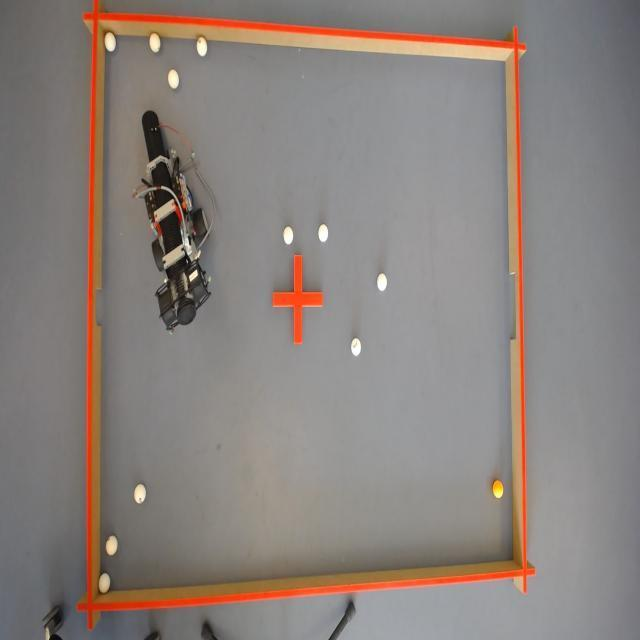orange: (493, 479, 506, 498)
robot: (134, 120, 214, 329)
white: (96, 571, 110, 593), (133, 484, 146, 506), (195, 36, 207, 58), (316, 222, 328, 243), (348, 337, 362, 355), (108, 534, 119, 556), (282, 225, 294, 245), (149, 34, 161, 54), (168, 66, 178, 89), (376, 272, 388, 290), (102, 34, 114, 52)
